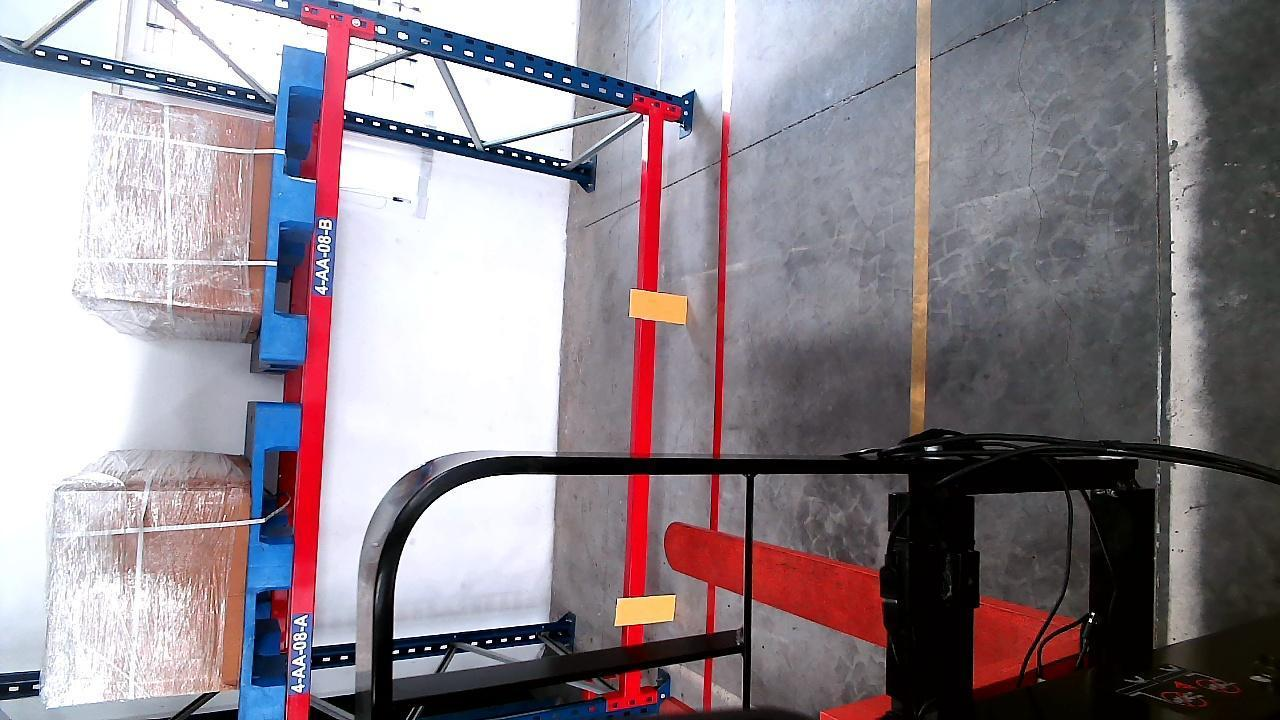h_rack: (290, 21, 348, 720), (628, 118, 661, 696)
orange_strip: (616, 594, 677, 626), (633, 290, 685, 322)
red_line: (701, 111, 730, 708)
small_pallet: (261, 47, 321, 363), (242, 397, 302, 712)
yellow_line: (909, 0, 935, 433)
